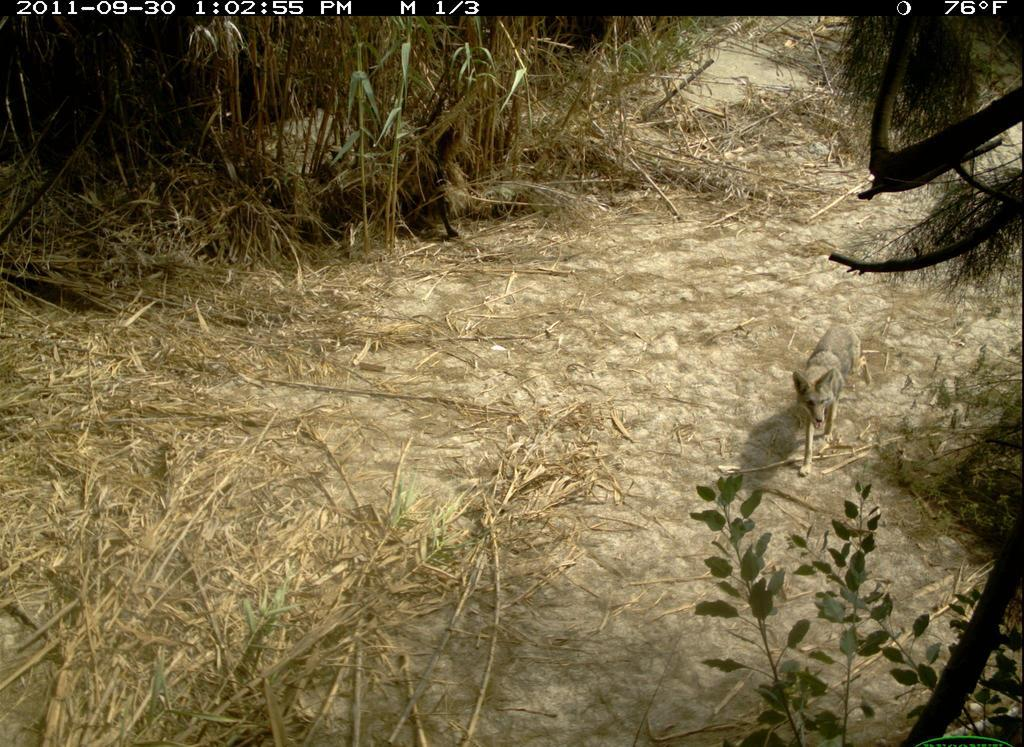coyote: (788, 317, 877, 486)
